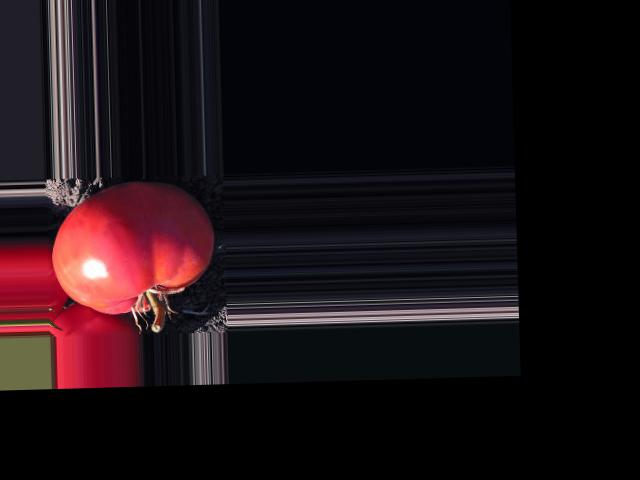tomato: (50, 179, 216, 314)
